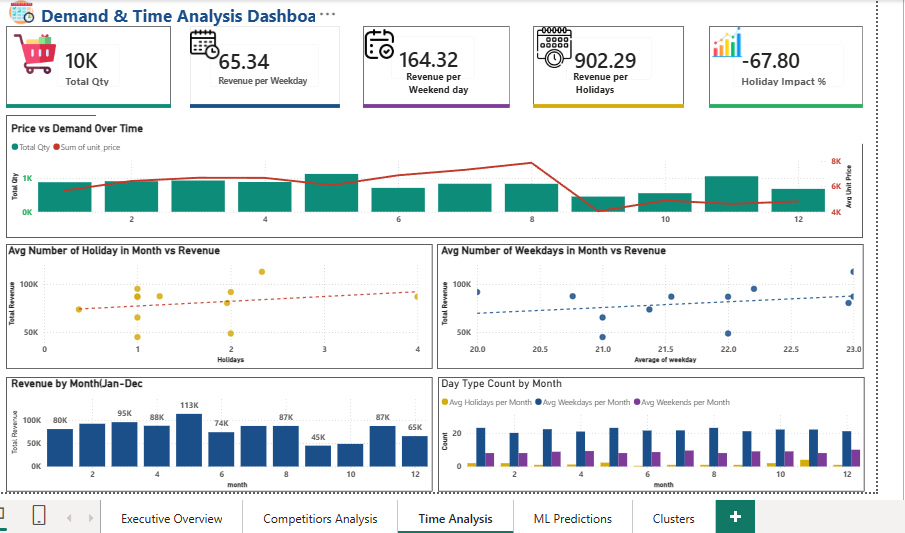

This screenshot's page, from the dashboard's own definition file:
{"tool":"powerbi","page":{"name":"Time Analysis","canvas":[1366,768],"ordinal":2},"visuals":[{"type":"shape","box":[9.4,179.5,1337.8,192],"z":0},{"type":"textbox","box":[10,0,132,40],"z":1000},{"type":"textbox","box":[149.9,179.5,1216,45.3],"z":2000},{"type":"textbox","box":[0,0,1365.9,53.1],"z":3000},{"type":"shape","box":[9.1,381.2,665.7,195.1],"z":4000},{"type":"shape","box":[9.4,40.6,257.6,124.9],"z":5000},{"type":"shape","box":[9.4,90.5,257.6,149.9],"z":6000},{"type":"shape","box":[296.6,40.6,234.1,124.9],"z":7000},{"type":"shape","box":[566.6,40.6,229.5,124.9],"z":8000},{"type":"shape","box":[832,40.6,235.7,124.9],"z":9000},{"type":"shape","box":[1106.7,40.6,240.4,124.9],"z":10000},{"type":"shape","box":[296.6,90.5,234.1,149.9],"z":11000},{"type":"shape","box":[566.6,90.5,229.5,149.9],"z":12000},{"type":"shape","box":[832,90.5,235.7,149.9],"z":13000},{"type":"shape","box":[1106.7,90.5,240.4,149.9],"z":14000},{"type":"cardVisual","fields":{"Data":["ecommerce_final (1).Total Qty"]},"box":[71.8,51.5,132.7,101.5],"z":15000},{"type":"cardVisual","fields":{"Data":["ecommerce_final (1).Revenue per Weekday"]},"box":[310.6,51.5,204.5,101.5],"z":16000},{"type":"cardVisual","fields":{"Data":["ecommerce_final (1).Revenue per Weekend day"]},"box":[593.2,39,165.5,101.5],"z":17000},{"type":"cardVisual","fields":{"Data":["ecommerce_final (1).REvenue per Holiday"]},"box":[866.3,40.6,168.6,101.5],"z":18000},{"type":"cardVisual","fields":{"Data":["ecommerce_final (1).Holiday Impact %"]},"box":[1127,51.5,207.6,101.5],"z":19000},{"type":"textbox","box":[629.1,104.6,257.6,149.9],"z":20000},{"type":"textbox","box":[889.8,104.6,257.6,149.9],"z":21000},{"type":"lineClusteredColumnComboChart","title":"Price vs Demand Over Time","fields":{"Y":["ecommerce_final (1).Total Qty"],"Y2":["Sum(ecommerce_final (1).unit_price)"],"Category":["ecommerce_final (1).month"]},"box":[12.5,190.4,1322.1,170.1],"z":22000},{"type":"scatterChart","title":"Avg Number of Holiday in Month vs Revenue","fields":{"Y":["ecommerce_final (1).Total Revenue"],"X":["Avg(ecommerce_final (1).holiday)"],"Category":["ecommerce_final (1).month"]},"box":[7.3,381.2,652.9,191.5],"z":23000},{"type":"shape","box":[682.1,381.2,665.7,195.1],"z":24000},{"type":"scatterChart","title":"Avg Number of Weekdays in Month vs Revenue","fields":{"X":["Avg(ecommerce_final (1).weekday)"],"Y":["ecommerce_final (1).Total Revenue"],"Category":["ecommerce_final (1).month"]},"box":[683.9,381.2,665.7,191.5],"z":25000},{"type":"shape","box":[9.1,589.1,665.7,178.7],"z":26000},{"type":"shape","box":[683.9,589.1,665.7,178.7],"z":27000},{"type":"columnChart","title":"Revenue by Month(Jan-Dec","fields":{"Category":["ecommerce_final (1).month"],"Y":["ecommerce_final (1).Total Revenue"]},"box":[12.8,589.1,660.2,178.7],"z":28000},{"type":"clusteredColumnChart","title":"Day Type Count by Month","fields":{"Category":["ecommerce_final (1).month"],"Y":["ecommerce_final (1).Avg Holidays per Month","ecommerce_final (1).Avg Weekdays per Month","ecommerce_final (1).Avg Weekends per Month"]},"box":[683.9,589.1,663.9,178.7],"z":29000},{"type":"image","box":[9.1,0,49.2,38.3],"z":30000},{"type":"image","box":[297.3,20.1,45.6,98.5],"z":31000},{"type":"image","box":[12.5,51.5,84.3,65.6],"z":32000},{"type":"image","box":[550.8,41.9,82.1,52.9],"z":33000},{"type":"image","box":[813.4,41.9,104,63.8],"z":34000},{"type":"image","box":[1107,41.9,56.5,47.4],"z":35000}]}

Visuals, with their boxes on the page's 1366x768 design canvas (x1, y1, x2, y2). These are canvas units, not pixel positions in the 905x533 screenshot, which may show the page scaled, cropped or inside an application window:
shape: {"x1": 9, "y1": 180, "x2": 1347, "y2": 372}
textbox: {"x1": 10, "y1": 0, "x2": 142, "y2": 40}
textbox: {"x1": 150, "y1": 180, "x2": 1366, "y2": 225}
textbox: {"x1": 0, "y1": 0, "x2": 1366, "y2": 53}
shape: {"x1": 9, "y1": 381, "x2": 675, "y2": 576}
shape: {"x1": 9, "y1": 41, "x2": 267, "y2": 166}
shape: {"x1": 9, "y1": 90, "x2": 267, "y2": 240}
shape: {"x1": 297, "y1": 41, "x2": 531, "y2": 166}
shape: {"x1": 567, "y1": 41, "x2": 796, "y2": 166}
shape: {"x1": 832, "y1": 41, "x2": 1068, "y2": 166}
shape: {"x1": 1107, "y1": 41, "x2": 1347, "y2": 166}
shape: {"x1": 297, "y1": 90, "x2": 531, "y2": 240}
shape: {"x1": 567, "y1": 90, "x2": 796, "y2": 240}
shape: {"x1": 832, "y1": 90, "x2": 1068, "y2": 240}
shape: {"x1": 1107, "y1": 90, "x2": 1347, "y2": 240}
cardVisual - ecommerce_final (1).Total Qty: {"x1": 72, "y1": 52, "x2": 204, "y2": 153}
cardVisual - ecommerce_final (1).Revenue per Weekday: {"x1": 311, "y1": 52, "x2": 515, "y2": 153}
cardVisual - ecommerce_final (1).Revenue per Weekend day: {"x1": 593, "y1": 39, "x2": 759, "y2": 140}
cardVisual - ecommerce_final (1).REvenue per Holiday: {"x1": 866, "y1": 41, "x2": 1035, "y2": 142}
cardVisual - ecommerce_final (1).Holiday Impact %: {"x1": 1127, "y1": 52, "x2": 1335, "y2": 153}
textbox: {"x1": 629, "y1": 105, "x2": 887, "y2": 254}
textbox: {"x1": 890, "y1": 105, "x2": 1147, "y2": 254}
"Price vs Demand Over Time" lineClusteredColumnComboChart: {"x1": 12, "y1": 190, "x2": 1335, "y2": 360}
"Avg Number of Holiday in Month vs Revenue" scatterChart: {"x1": 7, "y1": 381, "x2": 660, "y2": 573}
shape: {"x1": 682, "y1": 381, "x2": 1348, "y2": 576}
"Avg Number of Weekdays in Month vs Revenue" scatterChart: {"x1": 684, "y1": 381, "x2": 1350, "y2": 573}
shape: {"x1": 9, "y1": 589, "x2": 675, "y2": 768}
shape: {"x1": 684, "y1": 589, "x2": 1350, "y2": 768}
"Revenue by Month(Jan-Dec" columnChart: {"x1": 13, "y1": 589, "x2": 673, "y2": 768}
"Day Type Count by Month" clusteredColumnChart: {"x1": 684, "y1": 589, "x2": 1348, "y2": 768}
image: {"x1": 9, "y1": 0, "x2": 58, "y2": 38}
image: {"x1": 297, "y1": 20, "x2": 343, "y2": 119}
image: {"x1": 12, "y1": 52, "x2": 97, "y2": 117}
image: {"x1": 551, "y1": 42, "x2": 633, "y2": 95}
image: {"x1": 813, "y1": 42, "x2": 917, "y2": 106}
image: {"x1": 1107, "y1": 42, "x2": 1164, "y2": 89}
